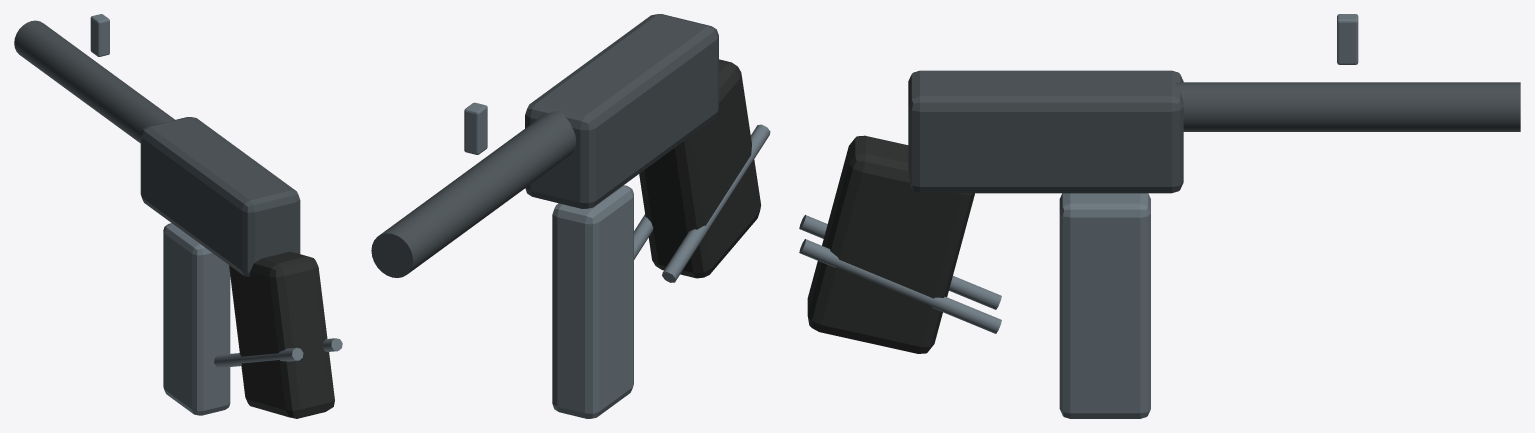
File: SMG.fbx
3 views of the same model, side by side, from view 1: azimuth 30°, elevation 25°; view 2: azimuth 150°, elevation 25°; view 3: azimuth 270°, elevation 25° (orthographic). The views are drawn at different scales.
Parts seen in each view (by area): view 1: Body.024; view 2: Body.024; view 3: Body.024.
Boxes of the visible parts, box(x1,y1,x2,y2) form: Body.024: box(14, 14, 342, 418); Body.024: box(371, 14, 770, 418); Body.024: box(799, 14, 1520, 418).
Size of the model in its own units: 0.07 by 0.367 by 0.6079.
